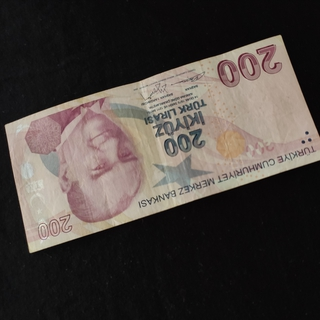200TLFront: (4, 35, 320, 253)
